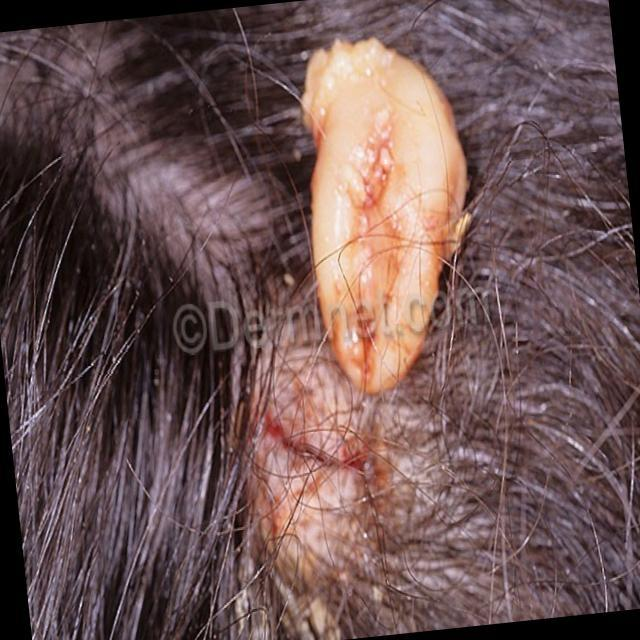Eczema: (259, 43, 468, 579)
